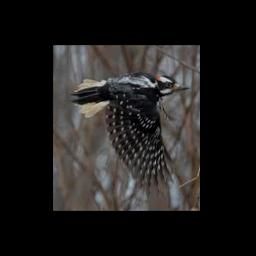Woodpecker: (70, 71, 190, 195)
